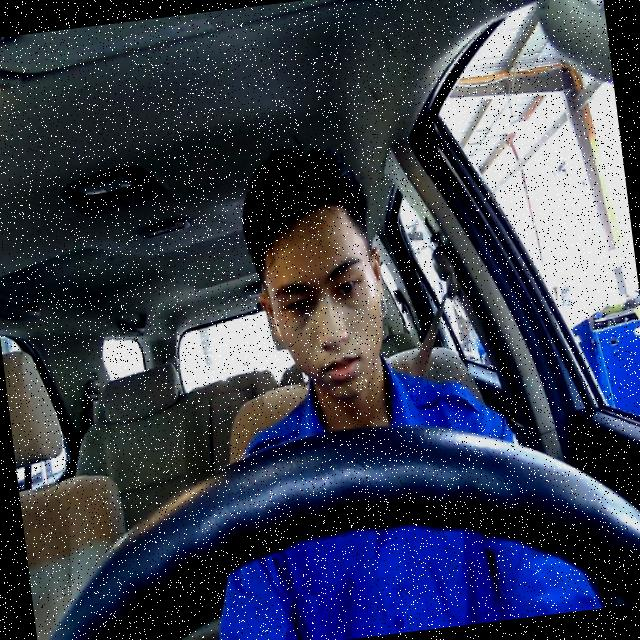focused: (248, 196, 396, 410)
